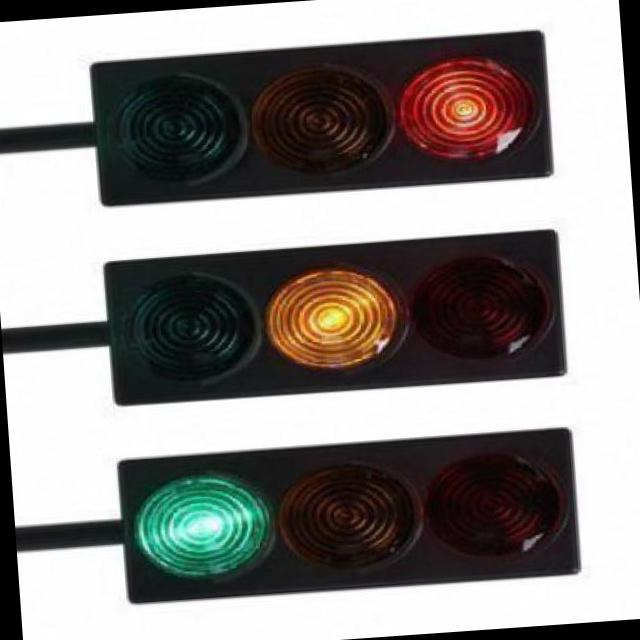green-lights: (114, 444, 284, 606)
red-lights: (394, 23, 555, 183)
yellow-lights: (256, 240, 421, 392)
